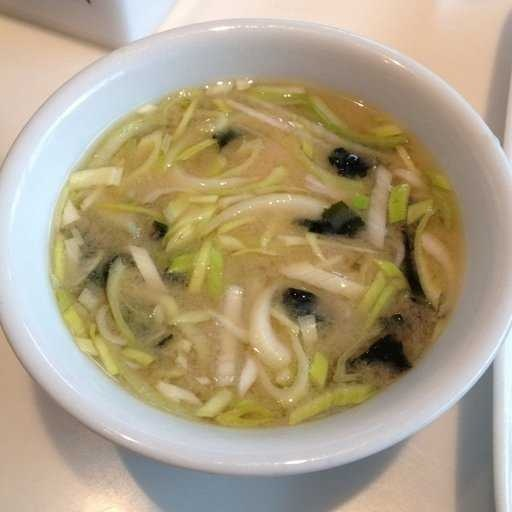soup: (8, 52, 488, 458)
